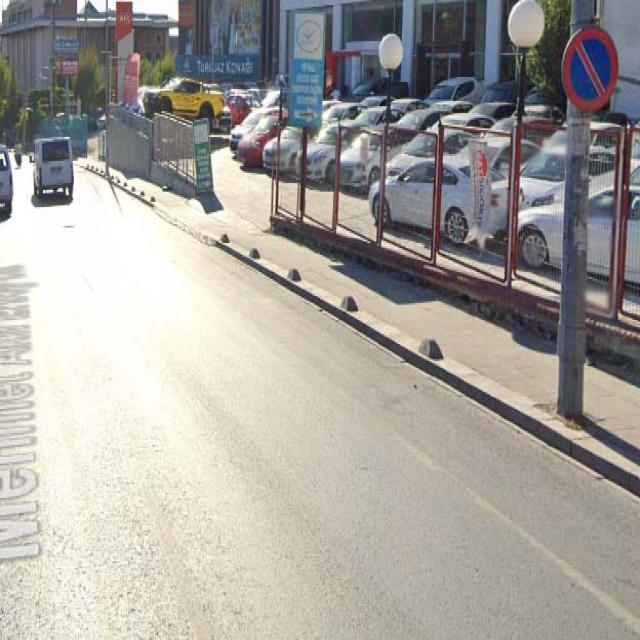parkyasak: (560, 26, 618, 113)
